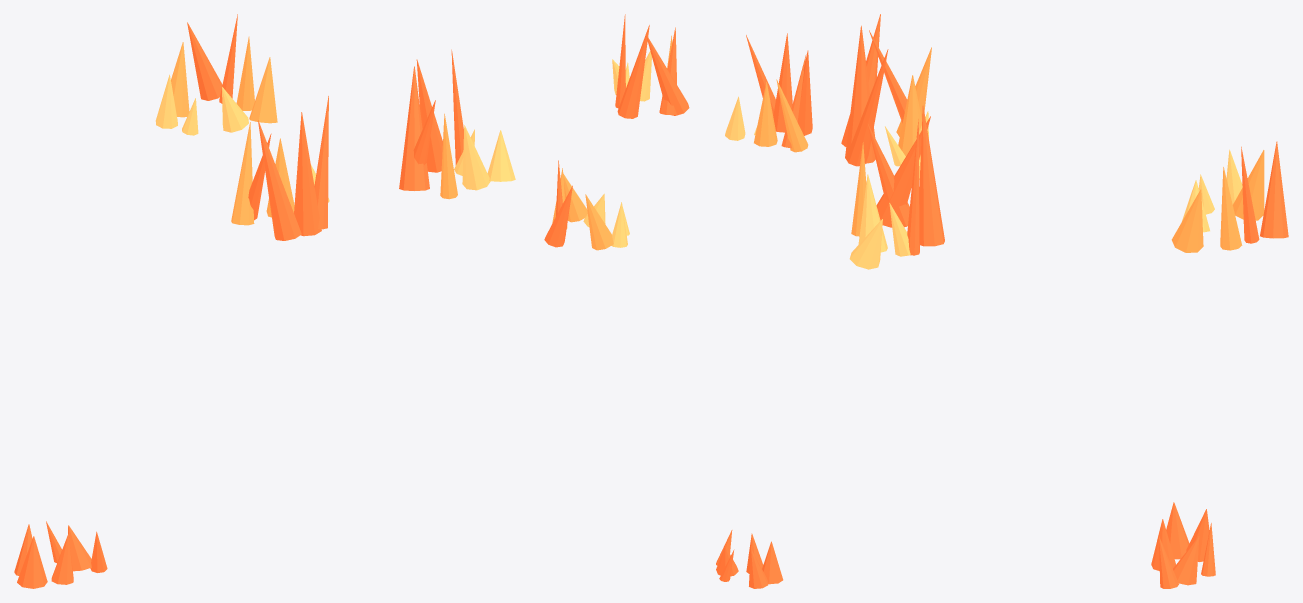
File: 30_fire_breaches.glb
The picture shows the model from 3 angles, left to right: view 1: azimuth 30°, elevation 25°; view 2: azimuth 150°, elevation 25°; view 3: azimuth 270°, elevation 25°; orthographic projection. The views are drawn at different scales.
Parts seen in each view (by area): view 1: 30_fire_breaches_firecrossing0rig_fflametip_noshadow_nocol, 30_fire_breaches_firecrossing1rig_fflametip_noshadow_nocol, 30_fire_breaches_fireaislerig_fflametip_noshadow_nocol, 30_fire_breaches_firetranseptrig_fflamebody_noshadow_nocol, 30_fire_breaches_firecrossing1rig_fflamecore_noshadow_nocol, 30_fire_breaches_firetranseptrig_fflamecore_noshadow_nocol, 30_fire_breaches_firecrossing0rig_fflamebody_noshadow_nocol, 30_fire_breaches_firetranseptrig_fflametip_noshadow_nocol, 30_fire_breaches_firecrossing1rig_fflamebody_noshadow_nocol; view 2: 30_fire_breaches_firecrossing1rig_fflametip_noshadow_nocol, 30_fire_breaches_firecrossing0rig_fflametip_noshadow_nocol, 30_fire_breaches_fireaislerig_fflametip_noshadow_nocol, 30_fire_breaches_firecrossing0rig_fflamebody_noshadow_nocol, 30_fire_breaches_firetranseptrig_fflamebody_noshadow_nocol, 30_fire_breaches_firetranseptrig_fflametip_noshadow_nocol, 30_fire_breaches_firetranseptrig_fflamecore_noshadow_nocol, 30_fire_breaches_firecrossing1rig_fflamecore_noshadow_nocol, 30_fire_breaches_firecrossing0rig_fflamecore_noshadow_nocol; view 3: 30_fire_breaches_firecrossing1rig_fflametip_noshadow_nocol, 30_fire_breaches_firecrossing0rig_fflametip_noshadow_nocol, 30_fire_breaches_fireaislerig_fflametip_noshadow_nocol, 30_fire_breaches_firetranseptrig_fflamebody_noshadow_nocol, 30_fire_breaches_firecrossing1rig_fflamecore_noshadow_nocol, 30_fire_breaches_firetranseptrig_fflametip_noshadow_nocol, 30_fire_breaches_firecrossing0rig_fflamebody_noshadow_nocol, 30_fire_breaches_firetranseptrig_fflamecore_noshadow_nocol, 30_fire_breaches_firecrossing1rig_fflamebody_noshadow_nocol.
Part boxes in pixels (box(x1,y1,x2,y2)): 30_fire_breaches_firecrossing0rig_fflametip_noshadow_nocol: box(248, 96, 328, 240); 30_fire_breaches_firecrossing1rig_fflametip_noshadow_nocol: box(399, 49, 463, 190); 30_fire_breaches_fireaislerig_fflametip_noshadow_nocol: box(14, 521, 107, 588); 30_fire_breaches_firetranseptrig_fflamebody_noshadow_nocol: box(171, 36, 277, 123); 30_fire_breaches_firecrossing1rig_fflamecore_noshadow_nocol: box(454, 125, 515, 190); 30_fire_breaches_firetranseptrig_fflamecore_noshadow_nocol: box(155, 74, 248, 135); 30_fire_breaches_firecrossing0rig_fflamebody_noshadow_nocol: box(231, 122, 294, 225); 30_fire_breaches_firetranseptrig_fflametip_noshadow_nocol: box(187, 14, 237, 103); 30_fire_breaches_firecrossing1rig_fflamebody_noshadow_nocol: box(440, 113, 457, 199); 30_fire_breaches_firecrossing1rig_fflametip_noshadow_nocol: box(615, 14, 689, 118); 30_fire_breaches_firecrossing0rig_fflametip_noshadow_nocol: box(746, 33, 812, 148); 30_fire_breaches_fireaislerig_fflametip_noshadow_nocol: box(716, 530, 783, 588); 30_fire_breaches_firecrossing0rig_fflamebody_noshadow_nocol: box(754, 79, 808, 152); 30_fire_breaches_firetranseptrig_fflamebody_noshadow_nocol: box(552, 168, 613, 250); 30_fire_breaches_firetranseptrig_fflametip_noshadow_nocol: box(544, 160, 572, 247); 30_fire_breaches_firetranseptrig_fflamecore_noshadow_nocol: box(583, 193, 629, 247); 30_fire_breaches_firecrossing1rig_fflamecore_noshadow_nocol: box(612, 51, 651, 101); 30_fire_breaches_firecrossing0rig_fflamecore_noshadow_nocol: box(725, 96, 757, 140); 30_fire_breaches_firecrossing1rig_fflametip_noshadow_nocol: box(867, 105, 944, 255); 30_fire_breaches_firecrossing0rig_fflametip_noshadow_nocol: box(841, 14, 907, 166); 30_fire_breaches_fireaislerig_fflametip_noshadow_nocol: box(1151, 502, 1215, 588); 30_fire_breaches_firetranseptrig_fflamebody_noshadow_nocol: box(1171, 150, 1264, 252); 30_fire_breaches_firecrossing1rig_fflamecore_noshadow_nocol: box(849, 174, 910, 269); 30_fire_breaches_firetranseptrig_fflametip_noshadow_nocol: box(1241, 141, 1288, 243); 30_fire_breaches_firecrossing0rig_fflamebody_noshadow_nocol: box(896, 47, 931, 156); 30_fire_breaches_firetranseptrig_fflamecore_noshadow_nocol: box(1182, 149, 1242, 232); 30_fire_breaches_firecrossing1rig_fflamebody_noshadow_nocol: box(851, 142, 866, 236).
Bounding box in the file's own units: 19.75 × 29.55 × 20.13.
